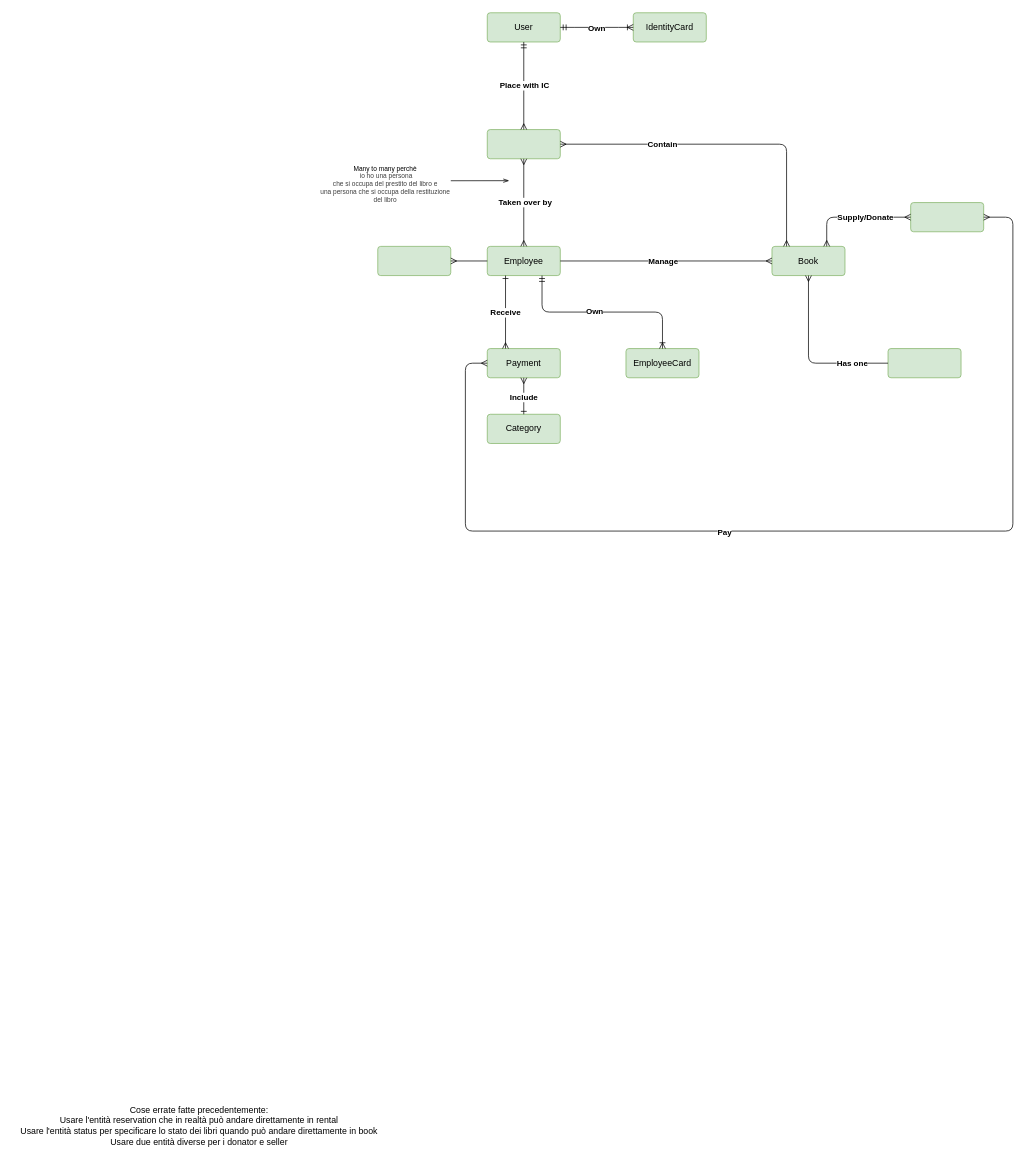
The diagram is 1032 pixels wide and 1164 high, and some of its shapes have lost their labels. Each missing label, with the box of its shape:
BookIdentity: (887, 348, 961, 378)
Rental: (487, 129, 560, 159)
Sector: (377, 246, 451, 276)
Supplier: (910, 202, 984, 232)
